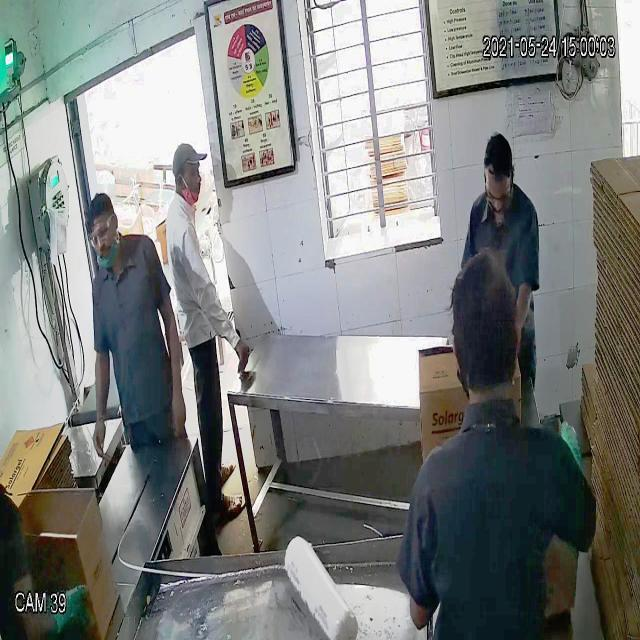glasses: (82, 220, 118, 250)
